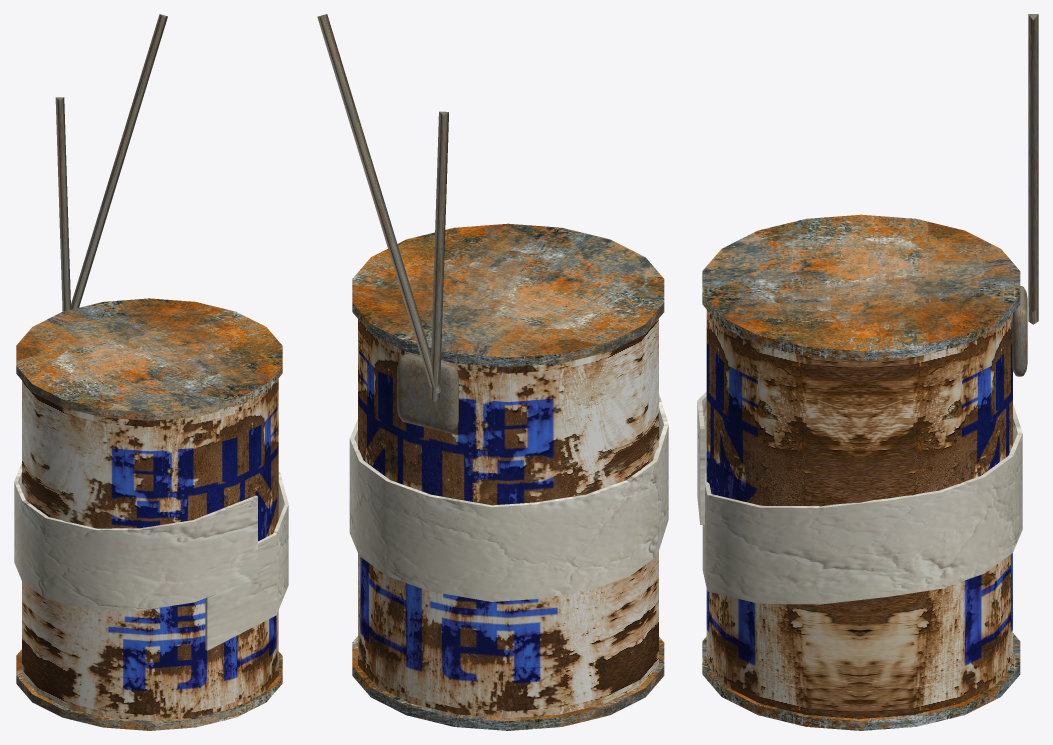
The model's file is CryBaby.FBX.
3 renders of one model, left to right at view 1: azimuth 30°, elevation 25°; view 2: azimuth 150°, elevation 25°; view 3: azimuth 270°, elevation 25°, orthographic. The views are drawn at different scales.
Visible parts, largest first — view 1: Cylinder018, Cylinder019, Cylinder020, Cylinder021, Cylinder022, Cylinder023; view 2: Cylinder018, Cylinder019, Cylinder020, Cylinder021, Cylinder022, ChamferBox001, Cylinder023; view 3: Cylinder018, Cylinder019, Cylinder020, Cylinder021, Cylinder022, ChamferBox001.
Boxes of the visible parts, bbox=[...] form: Cylinder018: bbox=[22, 378, 278, 720]; Cylinder019: bbox=[16, 298, 282, 420]; Cylinder020: bbox=[14, 463, 288, 650]; Cylinder021: bbox=[16, 649, 282, 730]; Cylinder022: bbox=[71, 14, 167, 309]; Cylinder023: bbox=[55, 97, 70, 311]; Cylinder018: bbox=[358, 318, 658, 718]; Cylinder019: bbox=[352, 223, 664, 367]; Cylinder020: bbox=[349, 394, 668, 601]; Cylinder021: bbox=[352, 636, 664, 730]; Cylinder022: bbox=[317, 14, 441, 394]; ChamferBox001: bbox=[397, 354, 458, 432]; Cylinder023: bbox=[429, 111, 448, 401]; Cylinder018: bbox=[706, 310, 1012, 718]; Cylinder019: bbox=[702, 214, 1020, 360]; Cylinder020: bbox=[697, 392, 1022, 604]; Cylinder021: bbox=[702, 633, 1020, 730]; Cylinder022: bbox=[1028, 14, 1038, 312]; ChamferBox001: bbox=[1012, 286, 1027, 376].
Size of the model in its own units: 7.76 by 18.51 by 8.2.
